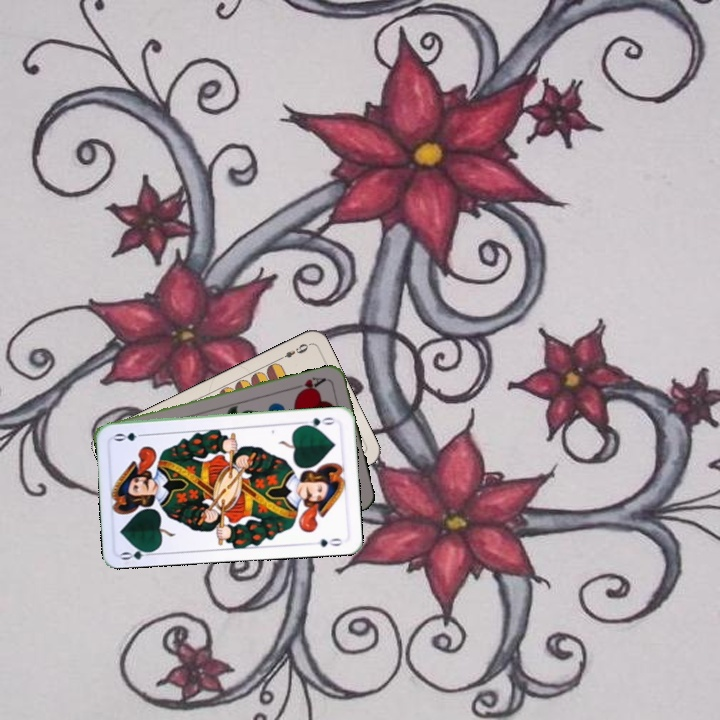E9: (274, 339, 311, 363)
GO: (117, 543, 158, 562), (298, 413, 337, 431)
HA: (290, 373, 329, 396)
